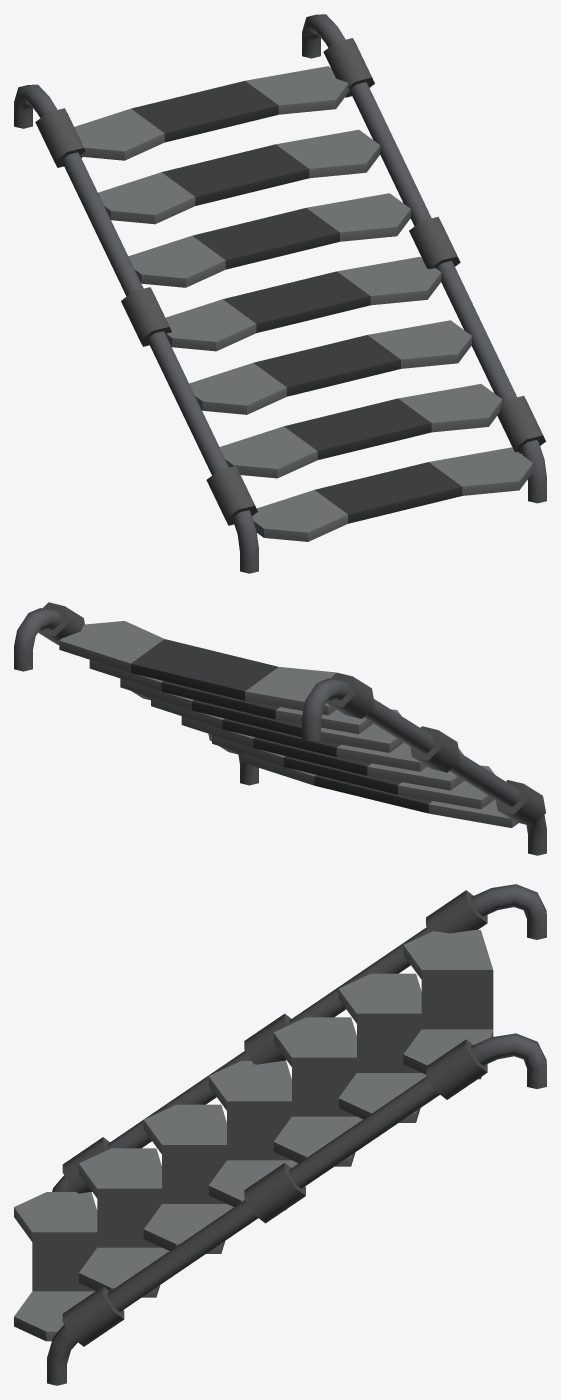
File: Stair_type_B_003.fbx
3 views of the same model, one above another, from view 1: azimuth 30°, elevation 25°; view 2: azimuth 150°, elevation 25°; view 3: azimuth 270°, elevation 25° (orthographic). The views are drawn at different scales.
Visible parts, largest first — view 1: Stair_type_B_003; view 2: Stair_type_B_003; view 3: Stair_type_B_003.
Boxes of the visible parts, x1=… form: Stair_type_B_003: x1=14, y1=14, x2=546, y2=573; Stair_type_B_003: x1=14, y1=602, x2=546, y2=855; Stair_type_B_003: x1=14, y1=884, x2=546, y2=1385.
Size of the model in its own units: 180 by 244 by 175.
